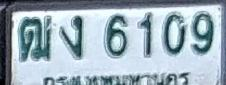0: (162, 12, 186, 55)
1: (138, 12, 152, 57)
6: (104, 14, 128, 56)
9: (192, 11, 214, 54)
A07: (60, 14, 83, 58)
A18: (18, 15, 52, 61)
